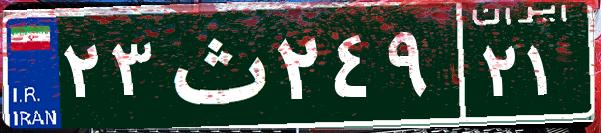1: (525, 38, 570, 115)
2: (273, 28, 330, 110), (57, 26, 110, 107), (475, 38, 525, 113)
3: (110, 28, 158, 105)
4: (330, 28, 385, 110)
9: (385, 28, 445, 110)
ث: (158, 15, 273, 115)
